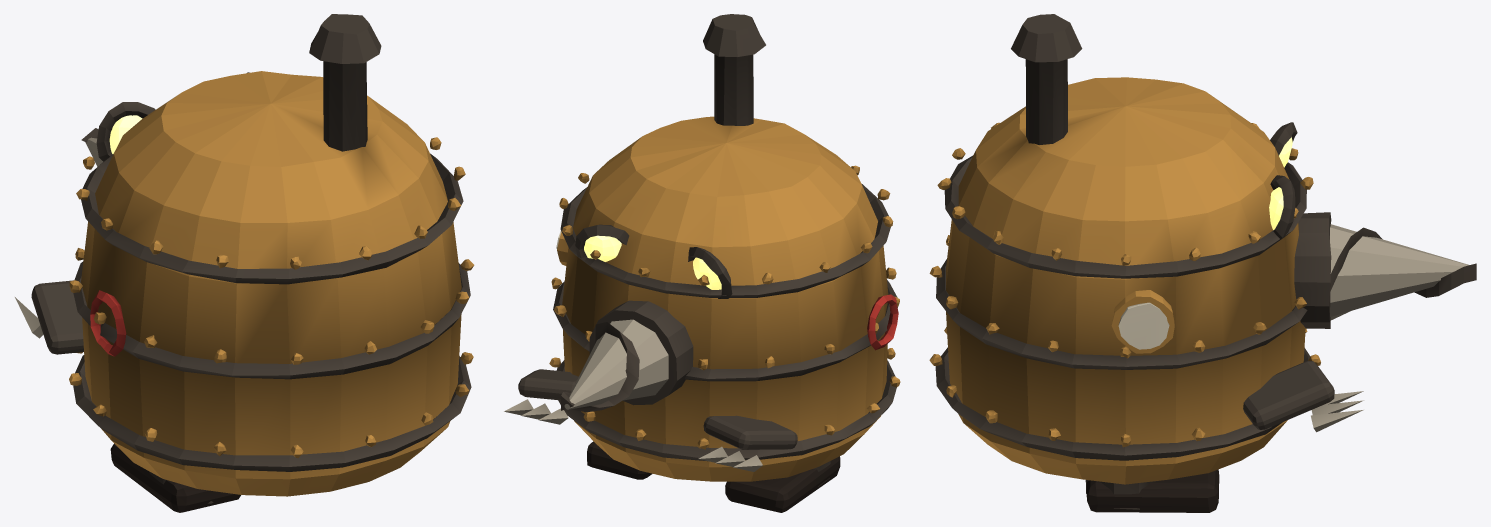
Rendered from robomole.glb.
3 renders of one model, left to right at view 1: azimuth 30°, elevation 25°; view 2: azimuth 150°, elevation 25°; view 3: azimuth 270°, elevation 25°, orthographic. The views are drawn at different scales.
Visible parts, largest first — view 1: RoboMole, Claws; view 2: RoboMole, Claws; view 3: RoboMole, Claws.
Boxes of the visible parts, x1=… form: RoboMole: x1=69, y1=14, x2=474, y2=512; Claws: x1=15, y1=128, x2=103, y2=354; RoboMole: x1=549, y1=14, x2=900, y2=512; Claws: x1=504, y1=319, x2=797, y2=471; RoboMole: x1=929, y1=14, x2=1331, y2=512; Claws: x1=1243, y1=224, x2=1476, y2=432.
Bounding box in the file's own units: 0.4427 × 0.5652 × 0.6165.
